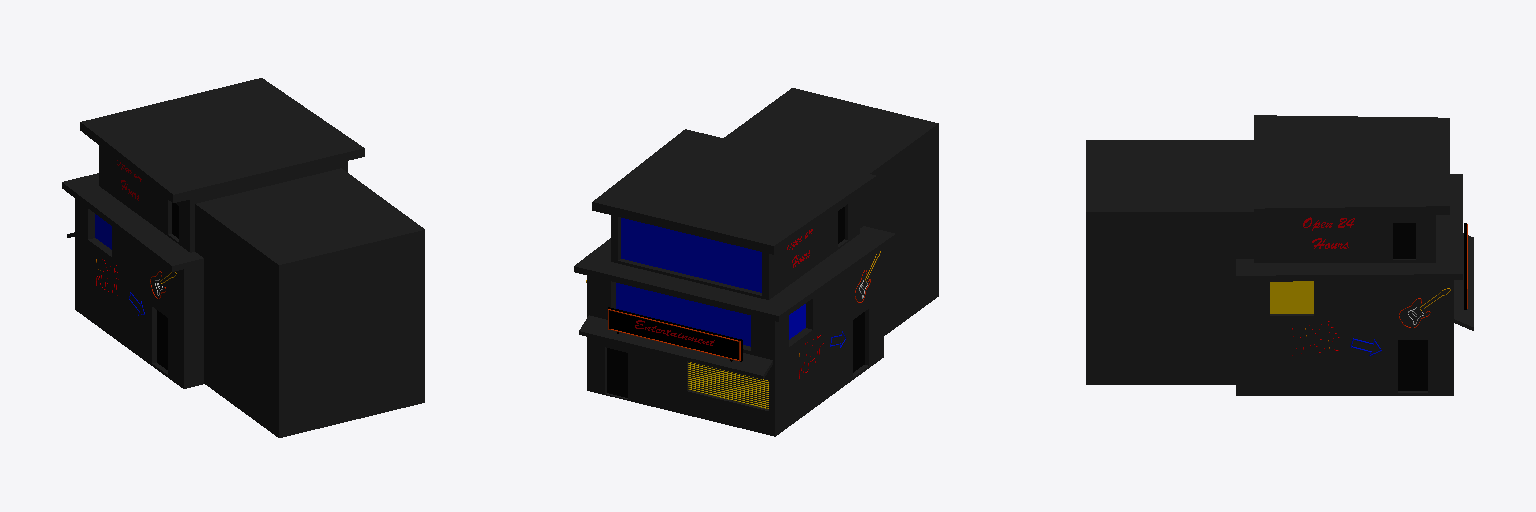
The model's file is entertainment-house.obj.
The picture shows the model from 3 angles: view 1: azimuth 30°, elevation 25°; view 2: azimuth 150°, elevation 25°; view 3: azimuth 270°, elevation 25°; orthographic projection.
Visible parts, largest first — view 1: ApartmentBuildingBack.002_Cube.084, Cube.048_Cube.082; view 2: Cube.048_Cube.082, ApartmentBuildingBack.002_Cube.084, Plane.031_Plane.056, Vert.244_Vert.256; view 3: Cube.048_Cube.082, ApartmentBuildingBack.002_Cube.084.
Boxes of the visible parts, <box> form: ApartmentBuildingBack.002_Cube.084: <box>195,168,424,437</box>; Cube.048_Cube.082: <box>62,78,364,388</box>; Cube.048_Cube.082: <box>574,129,895,436</box>; ApartmentBuildingBack.002_Cube.084: <box>724,88,938,335</box>; Plane.031_Plane.056: <box>608,307,742,361</box>; Vert.244_Vert.256: <box>688,362,768,408</box>; Cube.048_Cube.082: <box>1236,115,1473,395</box>; ApartmentBuildingBack.002_Cube.084: <box>1086,140,1253,384</box>.
Bounding box in the file's own units: 13.46 × 11.43 × 21.34.